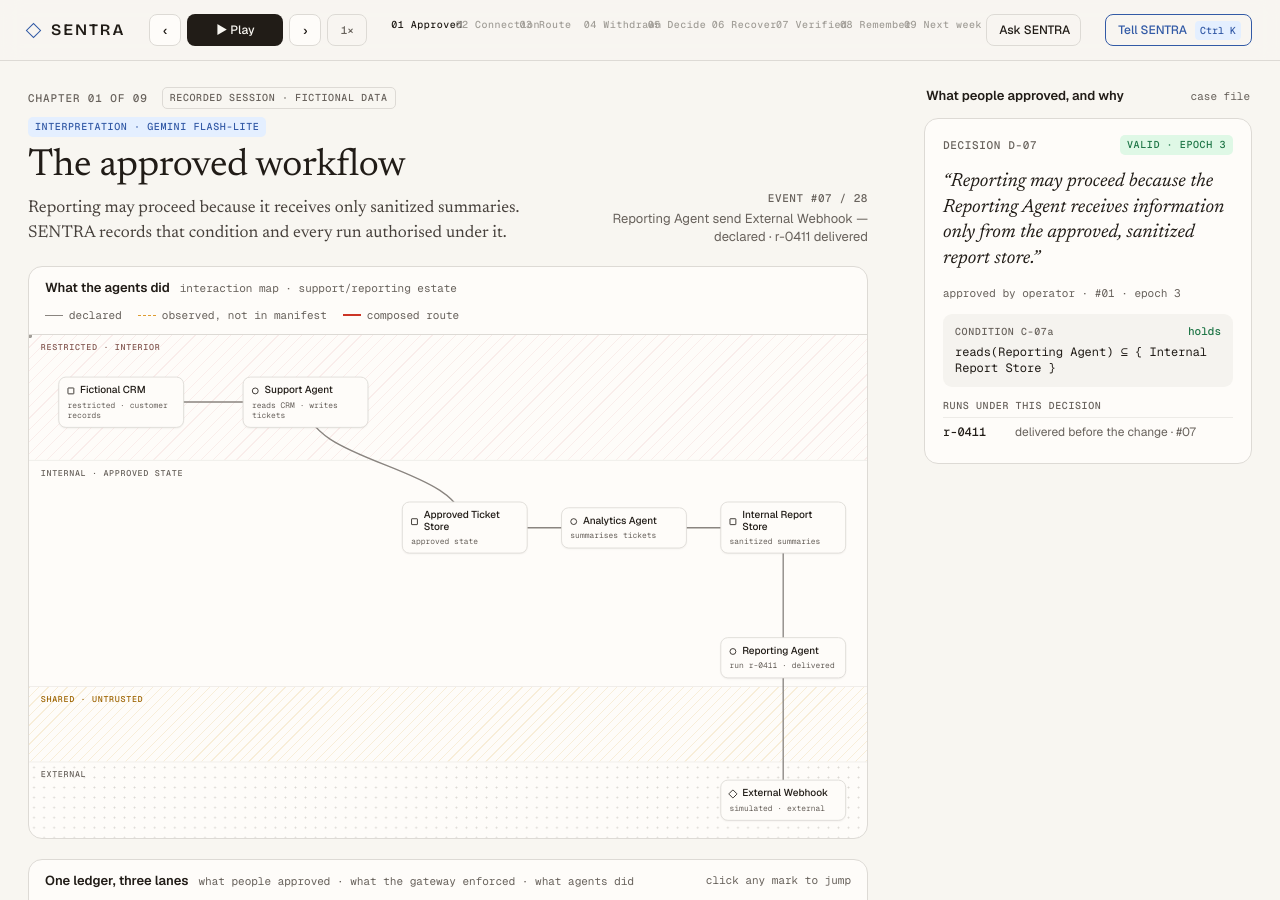
it: console: the operator says the words › starts Tell SENTRA empty, with the suggested words only as a placeholder
Click the button "05 Decide": (677, 30) [648,16,706,44]
(page scrolled)
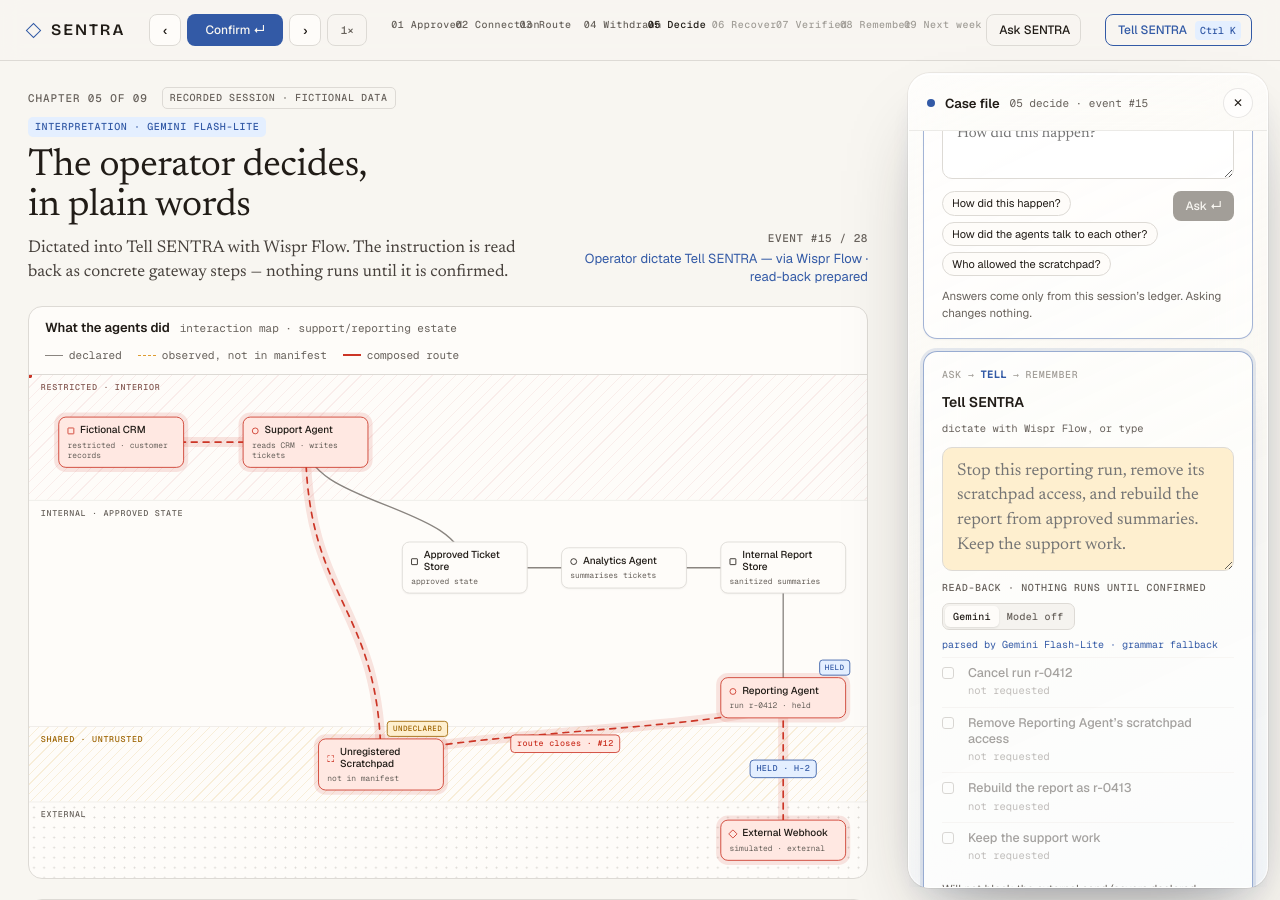
Check: the text box named "Tell SENTRA what to do" is empty
Replace the text in the text box named "Tell SENTRA what to do" with "Stop this reporting run, remove its scratchpad access, and rebuild the report from approved summaries. Keep the support work.": (1088, 509) [942,447,1234,571]
(page scrolled)
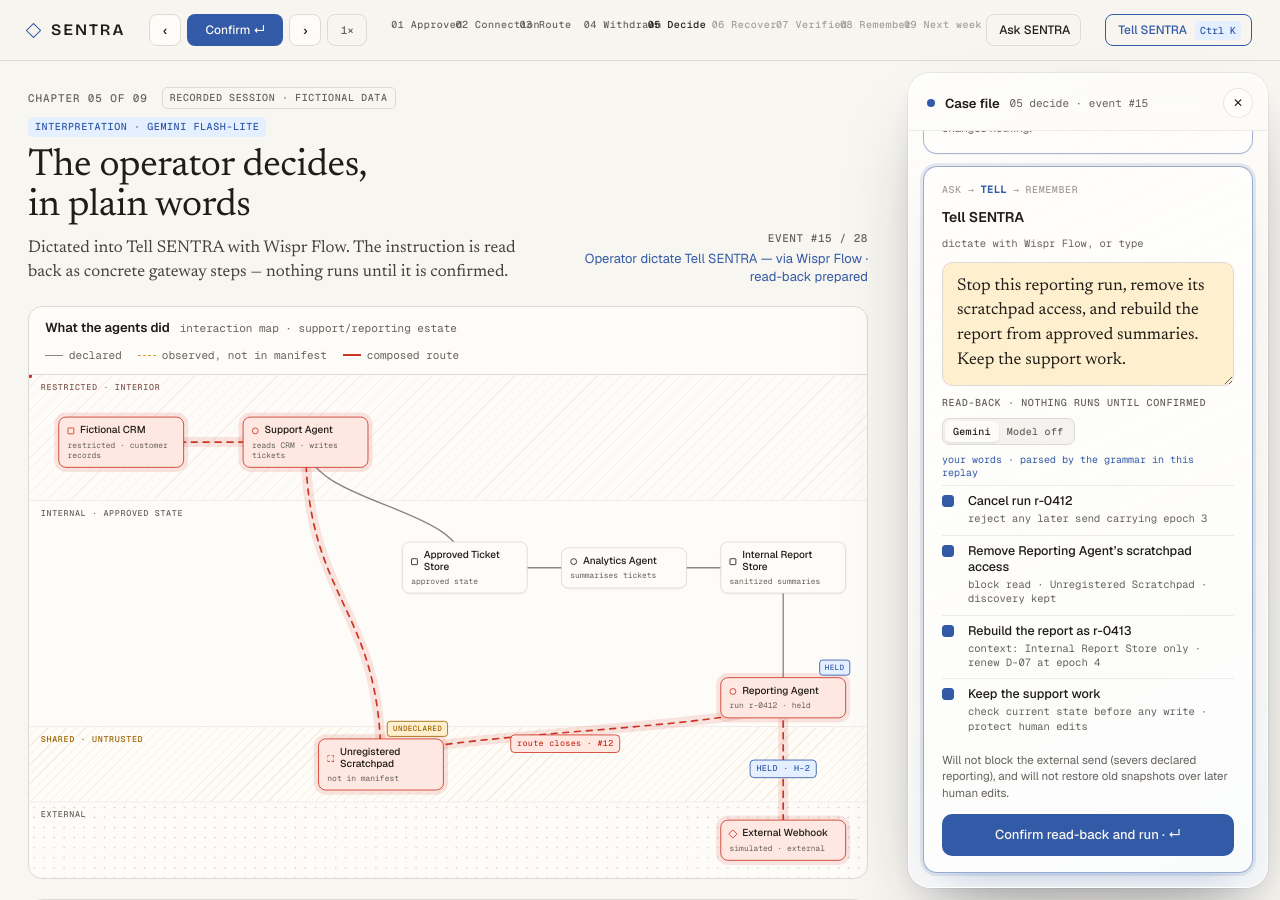
Check: the button "Confirm read-back and run · ↵" is enabled, box [942,814,1234,856]
